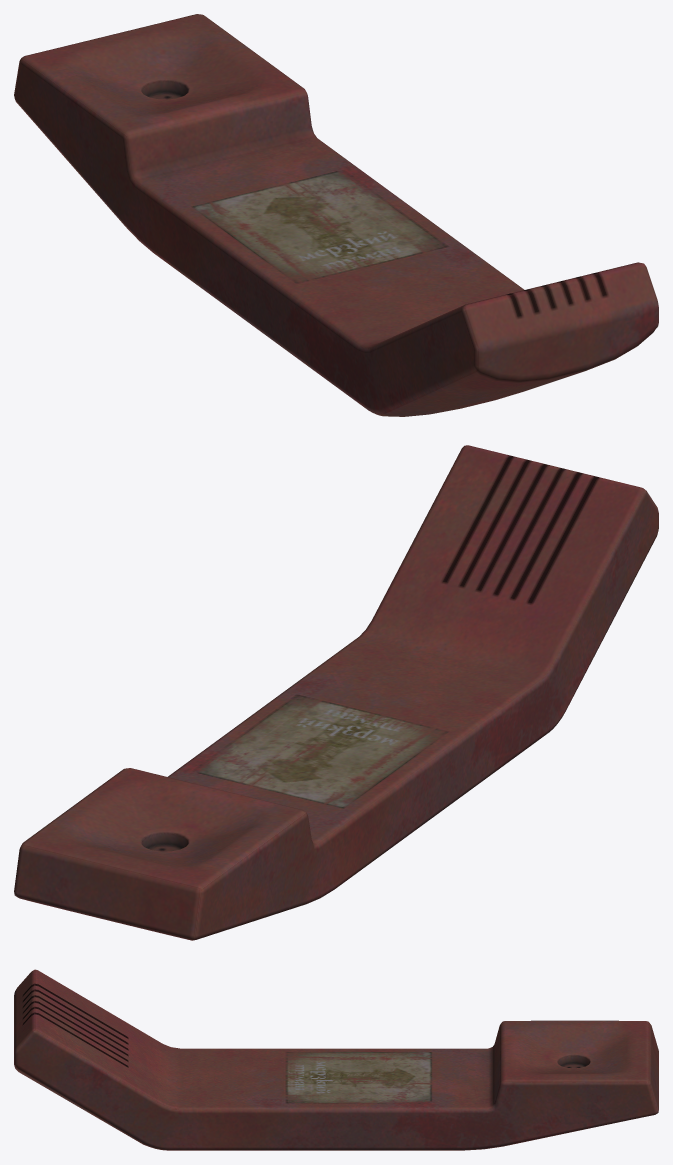
File: phone-handle.glb
3 renders of one model, top to bottom at view 1: azimuth 30°, elevation 25°; view 2: azimuth 150°, elevation 25°; view 3: azimuth 270°, elevation 25°, orthographic. The views are drawn at different scales.
Visible parts, largest first — view 1: tube_low; view 2: tube_low; view 3: tube_low.
Boxes of the visible parts, <box> form: tube_low: <box>14,14,658,416</box>; tube_low: <box>14,445,658,940</box>; tube_low: <box>14,969,658,1150</box>.
Bounding box in the file's own units: 0.0795 × 0.0761 × 0.3476.
1 material, 1 textured.
